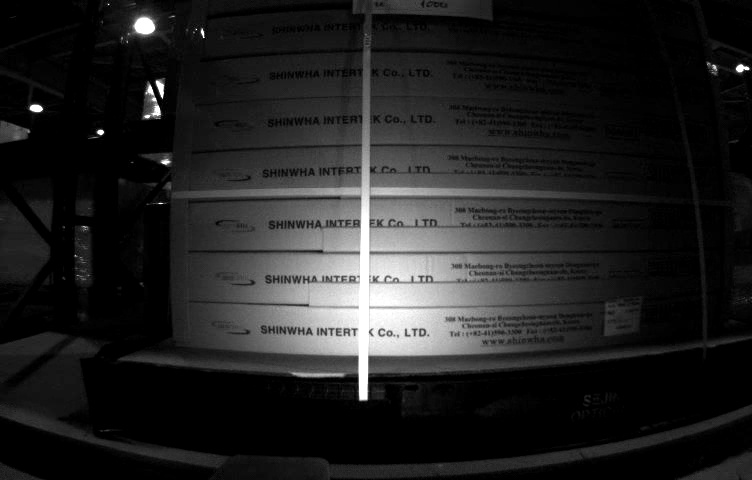True Barcode: (603, 299, 641, 335)
